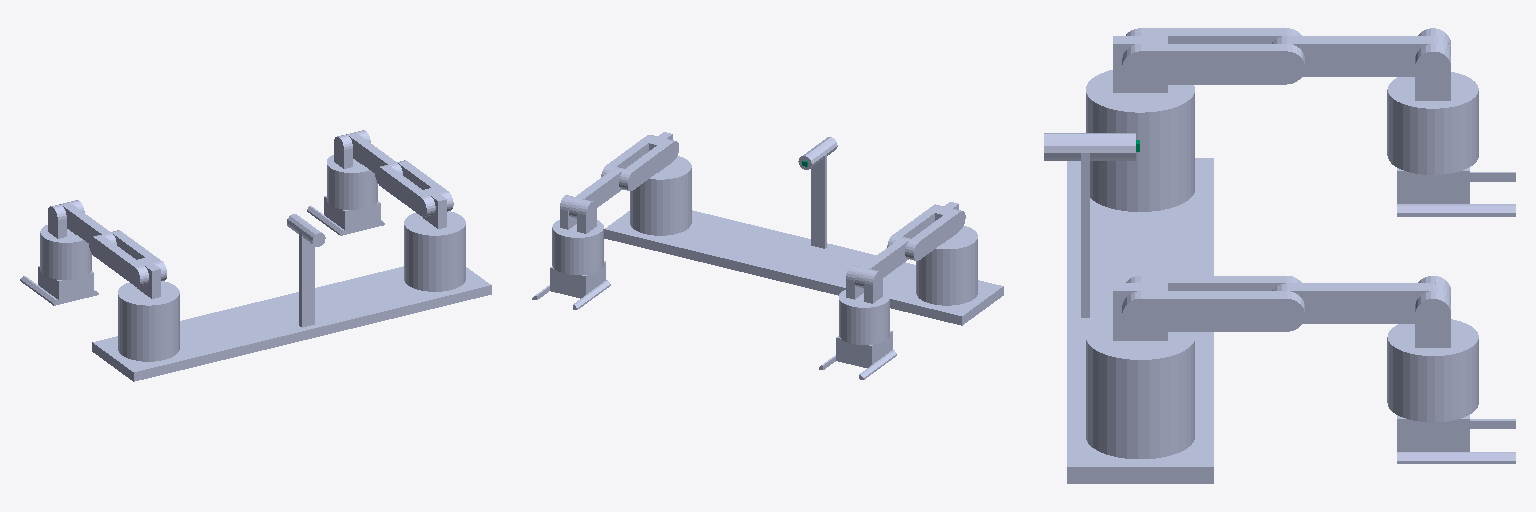
The robot description file, URDF, robot "test1":
<?xml version="1.0" encoding="utf-8" ?>
<!-- This URDF was automatically created by SolidWorks to URDF Exporter! Originally created by [author] ([email redacted]) 
     Commit Version: 1.5.1-0-g916b5db  Build Version: 1.5.7152.31018
     For more information, please see http://wiki.ros.org/sw_urdf_exporter -->
<robot name="test1">
    <link name="world"/>
    <joint name="fixedbase" type="fixed">
    <parent link="world"/>
    <child link="base_link"/>
    </joint>

    <link name="base_link">
        
<inertial>
            <origin xyz="0.0838510732065891 0.152816071328062 0.340789392445379" rpy="0 0 0" />
            <mass value="0.334888633222162" />
            <inertia ixx="0.000304477646882276" ixy="8.07014144817972E-20" ixz="2.1588633591573E-19" iyy="0.00442612046839941" iyz="-3.47799442108184E-05" izz="0.00436072794494586" />
        </inertial>

        <visual>
            <origin xyz="0 0 0" rpy="0 0 0" />
            <geometry>
                <mesh filename="package://test1/meshes/base_link.STL" />
            </geometry>
            <material name="">
                <color rgba="0.792156862745098 0.819607843137255 0.933333333333333 1" />
            </material>
        </visual>
        <collision>
            <origin xyz="0 0 0" rpy="0 0 0" />
            <geometry>
                <mesh filename="package://test1/meshes/base_link.STL" />
            </geometry>
        </collision>
    </link>

  <joint name="camera_joint" type="fixed">
    <axis xyz="0 0 1" />
    <origin xyz="0.083 -0.342 0.254" rpy="0 0 1.57"/>
    <parent link="base_link"/>
    <child link="camera_link"/>
  </joint>

  <!-- Camera -->
  <link name="camera_link">
    <collision>
      <origin xyz="0 0 0" rpy="0 0 0"/>
      <geometry>
    <box size="0.005 0.005 0.005"/>
      </geometry>
    </collision>

    <visual>
      <origin xyz="0 0 0" rpy="0 0 0"/>
      <geometry>
    <box size="0.005 0.005 0.005"/>
      </geometry>
      <material name="red"/>
    </visual>

    <inertial>
      <mass value="1e-5" />
      <origin xyz="0 0 0" rpy="0 0 0"/>
      <inertia ixx="1e-6" ixy="0" ixz="0" iyy="1e-6" iyz="0" izz="1e-6" />
    </inertial>
  </link>

    <link name="RR1">
        
<inertial>
            <origin xyz="2.77555756156289E-17 0.0420278894194755 0" rpy="0 0 0" />
            <mass value="0.178646003293849" />
            <inertia ixx="0.000107265792697991" ixy="1.22652595398072E-22" ixz="7.76330401286188E-24" iyy="7.70885233113255E-05" iyz="1.04273830847291E-21" izz="0.000106663614527085" />
        </inertial>

        <visual>
            <origin xyz="0 0 0" rpy="0 0 0" />
            <geometry>
                <mesh filename="package://test1/meshes/RR1.STL" />
            </geometry>
            <material name="">
                <color rgba="0.792156862745098 0.819607843137255 0.933333333333333 1" />
            </material>
        </visual>
        <collision>
            <origin xyz="0 0 0" rpy="0 0 0" />
            <geometry>
                <mesh filename="package://test1/meshes/RR1.STL" />
            </geometry>
        </collision>
    </link>
    <joint name="right_rotary1" type="continuous">
        <origin xyz="0.24385 -0.33943 0.14395" rpy="1.5708 0 0" />
        <parent link="base_link" />
        <child link="RR1" />
        <axis xyz="0 1 0" />
    </joint>
    <link name="RL1">
        
<inertial>
            <origin xyz="-1.11022302462516E-16 -2.1094237467878E-15 -0.038403448067606" rpy="0 0 0" />
            <mass value="0.0377805304826052" />
            <inertia ixx="2.66065433465292E-05" ixy="5.30653405766281E-21" ixz="4.55467853238826E-22" iyy="2.74129103076404E-05" iyz="8.98987049862964E-20" izz="1.63710439898444E-06" />
        </inertial>

        <visual>
            <origin xyz="0 0 0" rpy="0 0 0" />
            <geometry>
                <mesh filename="package://test1/meshes/RL1.STL" />
            </geometry>
            <material name="">
                <color rgba="0.792156862745098 0.819607843137255 0.933333333333333 1" />
            </material>
        </visual>
        <collision>
            <origin xyz="0 0 0" rpy="0 0 0" />
            <geometry>
                <mesh filename="package://test1/meshes/RL1.STL" />
            </geometry>
        </collision>
    </link>
    <joint name="right_link1" type="continuous">
        <origin xyz="0 0.09 0" rpy="0 0 1.5708" />
        <parent link="RR1" />
        <child link="RL1" />
        <axis xyz="0 1 0" />
    </joint>
    <link name="RL2">
        
<inertial>
            <origin xyz="0.0369294533162458 2.22044604925031E-15 0" rpy="0 0 0" />
            <mass value="0.0196442474781642" />
            <inertia ixx="8.78116796204284E-07" ixy="4.48608257029276E-20" ixz="2.83077563939317E-22" iyy="1.37124870117151E-05" iyz="8.99804957098311E-23" izz="1.33628362699767E-05" />
        </inertial>

        <visual>
            <origin xyz="0 0 0" rpy="0 0 0" />
            <geometry>
                <mesh filename="package://test1/meshes/RL2.STL" />
            </geometry>
            <material name="">
                <color rgba="0.792156862745098 0.819607843137255 0.933333333333333 1" />
            </material>
        </visual>
        <collision>
            <origin xyz="0 0 0" rpy="0 0 0" />
            <geometry>
                <mesh filename="package://test1/meshes/RL2.STL" />
            </geometry>
        </collision>
    </link>
    <joint name="right_link2" type="continuous">
        <origin xyz="0 0 -0.08" rpy="3.1416 1.5708 0" />
        <parent link="RL1" />
        <child link="RL2" />
        <axis xyz="0 1 0" />
    </joint>
    <link name="RR2">
        
<inertial>
            <origin xyz="6.10622663543836E-16 -0.0353505426213748 1.2490009027033E-15" rpy="0 0 0" />
            <mass value="0.0890059665728128" />
            <inertia ixx="3.34811849325962E-05" ixy="7.71124760661646E-21" ixz="8.51563290514845E-22" iyy="2.60873781539216E-05" iyz="1.00054745792428E-21" izz="3.43451624913019E-05" />
        </inertial>

        <visual>
            <origin xyz="0 0 0" rpy="0 0 0" />
            <geometry>
                <mesh filename="package://test1/meshes/RR2.STL" />
            </geometry>
            <material name="">
                <color rgba="0.792156862745098 0.819607843137255 0.933333333333333 1" />
            </material>
        </visual>
        <collision>
            <origin xyz="0 0 0" rpy="0 0 0" />
            <geometry>
                <mesh filename="package://test1/meshes/RR2.STL" />
            </geometry>
        </collision>
    </link>
    <joint name="right_rotary2" type="continuous">
        <origin xyz="0.08 0 0" rpy="-1.5708 0 1.5708" />
        <parent link="RL2" />
        <child link="RR2" />
        <axis xyz="1 0 0" />
    </joint>
    <link name="REE">
        
<inertial>
            <origin xyz="2.77555756156289E-17 -0.0275904487900549 0.000759811739890842" rpy="0 0 0" />
            <mass value="0.0438430972450962" />
            <inertia ixx="9.53560850425357E-06" ixy="3.30301603962521E-21" ixz="1.48127091971323E-21" iyy="1.33256208203119E-05" iyz="3.41080674681296E-07" izz="9.52104223283869E-06" />
        </inertial>

        <visual>
            <origin xyz="0 0 0" rpy="0 0 0" />
            <geometry>
                <mesh filename="package://test1/meshes/REE.STL" />
            </geometry>
            <material name="">
                <color rgba="0.792156862745098 0.819607843137255 0.933333333333333 1" />
            </material>
        </visual>
        <collision>
            <origin xyz="0 0 0" rpy="0 0 0" />
            <geometry>
                <mesh filename="package://test1/meshes/REE.STL" />
            </geometry>
        </collision>
    </link>
    <joint name="right_effector" type="continuous">
        <origin xyz="0 -0.045 0" rpy="3.1416 0 3.1416" />
        <parent link="RR2" />
        <child link="REE" />
        <axis xyz="0 1 0" />
    </joint>
    <link name="LR1">
        
<inertial>
            <origin xyz="0 0.0420278894194755 5.55111512312578E-17" rpy="0 0 0" />
            <mass value="0.178646003293849" />
            <inertia ixx="0.000107265792697991" ixy="2.876242374885E-21" ixz="-7.77591068656014E-24" iyy="7.70885233113254E-05" iyz="6.27751104669501E-22" izz="0.000106663614527085" />
        </inertial>

        <visual>
            <origin xyz="0 0 0" rpy="0 0 0" />
            <geometry>
                <mesh filename="package://test1/meshes/LR1.STL" />
            </geometry>
            <material name="">
                <color rgba="0.792156862745098 0.819607843137255 0.933333333333333 1" />
            </material>
        </visual>
        <collision>
            <origin xyz="0 0 0" rpy="0 0 0" />
            <geometry>
                <mesh filename="package://test1/meshes/LR1.STL" />
            </geometry>
        </collision>
    </link>
    <joint name="left_rotary1" type="continuous">
        <origin xyz="-0.0761489267934124 -0.339431541154881 0.14394830717308" rpy="1.5707963267949 0 0" />
        <parent link="base_link" />
        <child link="LR1" />
        <axis xyz="0 1 0" />
    </joint>
    <link name="LL1">
        
<inertial>
            <origin xyz="9.71445146547012E-16 -2.06779038336435E-15 -0.0384034480676049" rpy="0 0 0" />
            <mass value="0.0377805304826052" />
            <inertia ixx="2.66065433465291E-05" ixy="5.65952169766214E-21" ixz="3.78079932270797E-22" iyy="2.74129103076404E-05" iyz="9.17049244362448E-20" izz="1.63710439898444E-06" />
        </inertial>

        <visual>
            <origin xyz="0 0 0" rpy="0 0 0" />
            <geometry>
                <mesh filename="package://test1/meshes/LL1.STL" />
            </geometry>
            <material name="">
                <color rgba="0.792156862745098 0.819607843137255 0.933333333333333 1" />
            </material>
        </visual>
        <collision>
            <origin xyz="0 0 0" rpy="0 0 0" />
            <geometry>
                <mesh filename="package://test1/meshes/LL1.STL" />
            </geometry>
        </collision>
    </link>
    <joint name="left_link1" type="continuous">
        <origin xyz="0 0.09 0" rpy="0 0 1.5707963267949" />
        <parent link="LR1" />
        <child link="LL1" />
        <axis xyz="0 1 0" />
    </joint>
    <link name="LL2">
        
<inertial>
            <origin xyz="0.0369294533162458 2.17881268582687E-15 -2.77555756156289E-17" rpy="0 0 0" />
            <mass value="0.0196442474781642" />
            <inertia ixx="8.78116796204283E-07" ixy="4.55009142387539E-20" ixz="-1.54154067169773E-22" iyy="1.37124870117151E-05" iyz="1.98065429083425E-22" izz="1.33628362699766E-05" />
        </inertial>

        <visual>
            <origin xyz="0 0 0" rpy="0 0 0" />
            <geometry>
                <mesh filename="package://test1/meshes/LL2.STL" />
            </geometry>
            <material name="">
                <color rgba="0.792156862745098 0.819607843137255 0.933333333333333 1" />
            </material>
        </visual>
        <collision>
            <origin xyz="0 0 0" rpy="0 0 0" />
            <geometry>
                <mesh filename="package://test1/meshes/LL2.STL" />
            </geometry>
        </collision>
    </link>
    <joint name="left_link2" type="continuous">
        <origin xyz="0 0 -0.0800000000000018" rpy="3.14159265358979 1.5707963267949 0" />
        <parent link="LL1" />
        <child link="LL2" />
        <axis xyz="0 1 0" />
    </joint>
    <link name="LR2">
        
<inertial>
            <origin xyz="6.52256026967279E-16 -0.0353505426213759 1.66533453693773E-16" rpy="0 0 0" />
            <mass value="0.0890059665728128" />
            <inertia ixx="3.34811849325963E-05" ixy="2.64696048119377E-21" ixz="4.44867561929884E-22" iyy="2.60873781539216E-05" iyz="1.74929619483012E-21" izz="3.43451624913019E-05" />
        </inertial>

        <visual>
            <origin xyz="0 0 0" rpy="0 0 0" />
            <geometry>
                <mesh filename="package://test1/meshes/LR2.STL" />
            </geometry>
            <material name="">
                <color rgba="0.792156862745098 0.819607843137255 0.933333333333333 1" />
            </material>
        </visual>
        <collision>
            <origin xyz="0 0 0" rpy="0 0 0" />
            <geometry>
                <mesh filename="package://test1/meshes/LR2.STL" />
            </geometry>
        </collision>
    </link>
    <joint name="left_rotary2" type="continuous">
        <origin xyz="0.08 0 0" rpy="-1.5707963267949 0 1.5707963267949" />
        <parent link="LL2" />
        <child link="LR2" />
        <axis xyz="1 0 0" />
    </joint>
    <link name="LEE">
        
<inertial>
            <origin xyz="2.77555756156289E-17 -0.0275904487900548 0.000759811739890814" rpy="0 0 0" />
            <mass value="0.0438430972450961" />
            <inertia ixx="9.53560850425356E-06" ixy="3.20656145032519E-21" ixz="7.16213902178261E-23" iyy="1.33256208203119E-05" iyz="3.41080674681296E-07" izz="9.52104223283868E-06" />
        </inertial>

        <visual>
            <origin xyz="0 0 0" rpy="0 0 0" />
            <geometry>
                <mesh filename="package://test1/meshes/LEE.STL" />
            </geometry>
            <material name="">
                <color rgba="0.792156862745098 0.819607843137255 0.933333333333333 1" />
            </material>
        </visual>
        <collision>
            <origin xyz="0 0 0" rpy="0 0 0" />
            <geometry>
                <mesh filename="package://test1/meshes/LEE.STL" />
            </geometry>
        </collision>
    </link>
    <joint name="left_effector" type="continuous">
        <origin xyz="0 -0.0450000000000007 0" rpy="3.14159265358979 0 3.14159265358979" />
        <parent link="LR2" />
        <child link="LEE" />
        <axis xyz="0 1 0" />
    </joint>
    
    <transmission name="trans_right_rotary1">
        <type>transmission_interface/SimpleTransmission</type>
        <joint name="right_rotary1">
            <hardwareInterface>hardware_interface/PositionJointInterface</hardwareInterface>
        </joint>
        <actuator name="right_rotary1_motor">
            <hardwareInterface>hardware_interface/PositionJointInterface</hardwareInterface>
            <mechanicalReduction>1</mechanicalReduction>
        </actuator>
    </transmission>
    <transmission name="trans_right_link1">
        <type>transmission_interface/SimpleTransmission</type>
        <joint name="right_link1">
            <hardwareInterface>hardware_interface/PositionJointInterface</hardwareInterface>
        </joint>
        <actuator name="right_link1_motor">
            <hardwareInterface>hardware_interface/PositionJointInterface</hardwareInterface>
            <mechanicalReduction>1</mechanicalReduction>
        </actuator>
    </transmission>
    <transmission name="trans_right_link2">
        <type>transmission_interface/SimpleTransmission</type>
        <joint name="right_link2">
            <hardwareInterface>hardware_interface/PositionJointInterface</hardwareInterface>
        </joint>
        <actuator name="right_link2_motor">
            <hardwareInterface>hardware_interface/PositionJointInterface</hardwareInterface>
            <mechanicalReduction>1</mechanicalReduction>
        </actuator>
    </transmission>
    <transmission name="trans_right_rotary2">
        <type>transmission_interface/SimpleTransmission</type>
        <joint name="right_rotary2">
            <hardwareInterface>hardware_interface/PositionJointInterface</hardwareInterface>
        </joint>
        <actuator name="right_rotary2_motor">
            <hardwareInterface>hardware_interface/PositionJointInterface</hardwareInterface>
            <mechanicalReduction>1</mechanicalReduction>
        </actuator>
    </transmission>
    <transmission name="trans_right_effector">
        <type>transmission_interface/SimpleTransmission</type>
        <joint name="right_effector">
            <hardwareInterface>hardware_interface/PositionJointInterface</hardwareInterface>
        </joint>
        <actuator name="right_effector_motor">
            <hardwareInterface>hardware_interface/PositionJointInterface</hardwareInterface>
            <mechanicalReduction>1</mechanicalReduction>
        </actuator>
    </transmission>
    <transmission name="trans_left_rotary1">
        <type>transmission_interface/SimpleTransmission</type>
        <joint name="left_rotary1">
            <hardwareInterface>hardware_interface/PositionJointInterface</hardwareInterface>
        </joint>
        <actuator name="left_rotary1_motor">
            <hardwareInterface>hardware_interface/PositionJointInterface</hardwareInterface>
            <mechanicalReduction>1</mechanicalReduction>
        </actuator>
    </transmission>
    <transmission name="trans_left_link1">
        <type>transmission_interface/SimpleTransmission</type>
        <joint name="left_link1">
            <hardwareInterface>hardware_interface/PositionJointInterface</hardwareInterface>
        </joint>
        <actuator name="left_link1_motor">
            <hardwareInterface>hardware_interface/PositionJointInterface</hardwareInterface>
            <mechanicalReduction>1</mechanicalReduction>
        </actuator>
    </transmission>
    <transmission name="trans_left_link2">
        <type>transmission_interface/SimpleTransmission</type>
        <joint name="left_link2">
            <hardwareInterface>hardware_interface/PositionJointInterface</hardwareInterface>
        </joint>
        <actuator name="left_link2_motor">
            <hardwareInterface>hardware_interface/PositionJointInterface</hardwareInterface>
            <mechanicalReduction>1</mechanicalReduction>
        </actuator>
    </transmission>
    <transmission name="trans_left_rotary2">
        <type>transmission_interface/SimpleTransmission</type>
        <joint name="left_rotary2">
            <hardwareInterface>hardware_interface/PositionJointInterface</hardwareInterface>
        </joint>
        <actuator name="left_rotary2_motor">
            <hardwareInterface>hardware_interface/PositionJointInterface</hardwareInterface>
            <mechanicalReduction>1</mechanicalReduction>
        </actuator>
    </transmission>
    <transmission name="trans_left_effector">
        <type>transmission_interface/SimpleTransmission</type>
        <joint name="left_effector">
            <hardwareInterface>hardware_interface/PositionJointInterface</hardwareInterface>
        </joint>
        <actuator name="left_effector_motor">
            <hardwareInterface>hardware_interface/PositionJointInterface</hardwareInterface>
            <mechanicalReduction>1</mechanicalReduction>
        </actuator>
    </transmission>
    <gazebo>
        <plugin name="gazebo_ros_control" filename="libgazebo_ros_control.so">
        <robotSimType>gazebo_ros_control/DefaultRobotHWSim</robotSimType>
            <robotNamespace>/</robotNamespace>
        </plugin>
    </gazebo>

  <!-- camera -->
  <gazebo reference="camera_link">
    <sensor type="camera" name="camera1">
      <update_rate>30.0</update_rate>
      <camera name="base">
        <horizontal_fov>1.3962634</horizontal_fov>
        <image>
          <width>800</width>
          <height>800</height>
          <format>R8G8B8</format>
        </image>
        <clip>
          <near>0.02</near>
          <far>300</far>
        </clip>
        <noise>
          <type>gaussian</type>
          <!-- Noise is sampled independently per pixel on each frame.
               That pixel's noise value is added to each of its color
               channels, which at that point lie in the range [0,1]. -->
          <mean>0.0</mean>
          <stddev>0.007</stddev>
        </noise>
      </camera>
      <plugin name="camera_controller" filename="libgazebo_ros_camera.so">
        <alwaysOn>true</alwaysOn>
        <updateRate>0.0</updateRate>
        <cameraName>test1/camera1</cameraName>
        <imageTopicName>image_raw</imageTopicName>
        <cameraInfoTopicName>camera_info</cameraInfoTopicName>
        <frameName>camera_link</frameName>
        <hackBaseline>0.07</hackBaseline>
        <distortionK1>0.0</distortionK1>
        <distortionK2>0.0</distortionK2>
        <distortionK3>0.0</distortionK3>
        <distortionT1>0.0</distortionT1>
        <distortionT2>0.0</distortionT2>
      </plugin>
    </sensor>
  </gazebo>
</robot>

--- Render facts (derived) ---
The picture shows the robot from 3 angles, left to right: view 1: azimuth 30°, elevation 25°; view 2: azimuth 150°, elevation 25°; view 3: azimuth 270°, elevation 25°; orthographic projection.
Robot: test1 — 13 links, 12 joints (10 continuous, 2 fixed); root link world; default pose: all joints at 0.
Visible links, largest first — view 1: base_link, LR1, RR1, LR2, RR2, RL1, LL1, REE, LEE, RL2, LL2; view 2: base_link, RR1, LR1, RR2, LR2, LL1, RL1, LEE, REE, LL2, RL2; view 3: base_link, RR1, LR1, LR2, RR2, LL1, RL1, RL2, LL2, LEE, REE.
Boxes of the visible links, x1=… form: base_link: x1=92, y1=214, x2=491, y2=381; LR1: x1=118, y1=258, x2=179, y2=361; RR1: x1=404, y1=188, x2=465, y2=291; LR2: x1=40, y1=200, x2=91, y2=279; RR2: x1=327, y1=130, x2=377, y2=210; RL1: x1=375, y1=160, x2=453, y2=216; LL1: x1=89, y1=230, x2=166, y2=286; REE: x1=307, y1=196, x2=384, y2=235; LEE: x1=20, y1=266, x2=98, y2=305; RL2: x1=346, y1=132, x2=402, y2=180; LL2: x1=60, y1=202, x2=116, y2=250; base_link: x1=604, y1=137, x2=1003, y2=325; RR1: x1=630, y1=132, x2=691, y2=235; LR1: x1=916, y1=202, x2=977, y2=305; RR2: x1=552, y1=195, x2=603, y2=274; LR2: x1=839, y1=265, x2=889, y2=344; LL1: x1=887, y1=204, x2=965, y2=260; RL1: x1=601, y1=135, x2=678, y2=190; LEE: x1=819, y1=331, x2=896, y2=379; REE: x1=532, y1=261, x2=610, y2=309; LL2: x1=855, y1=237, x2=920, y2=288; RL2: x1=569, y1=167, x2=634, y2=218; base_link: x1=1044, y1=133, x2=1213, y2=483; RR1: x1=1086, y1=283, x2=1194, y2=458; LR1: x1=1086, y1=36, x2=1194, y2=211; LR2: x1=1387, y1=28, x2=1478, y2=174; RR2: x1=1387, y1=276, x2=1478, y2=421; LL1: x1=1122, y1=28, x2=1304, y2=84; RL1: x1=1122, y1=276, x2=1304, y2=331; RL2: x1=1272, y1=283, x2=1450, y2=323; LL2: x1=1272, y1=36, x2=1450, y2=76; LEE: x1=1397, y1=167, x2=1515, y2=216; REE: x1=1397, y1=415, x2=1515, y2=463.
Bounding box of the posed robot: 0.4 × 0.2575 × 0.1175 m (x, y, z).
Meshes: 11 distinct files referenced, 11 mesh visuals loaded (11 binary STL).
